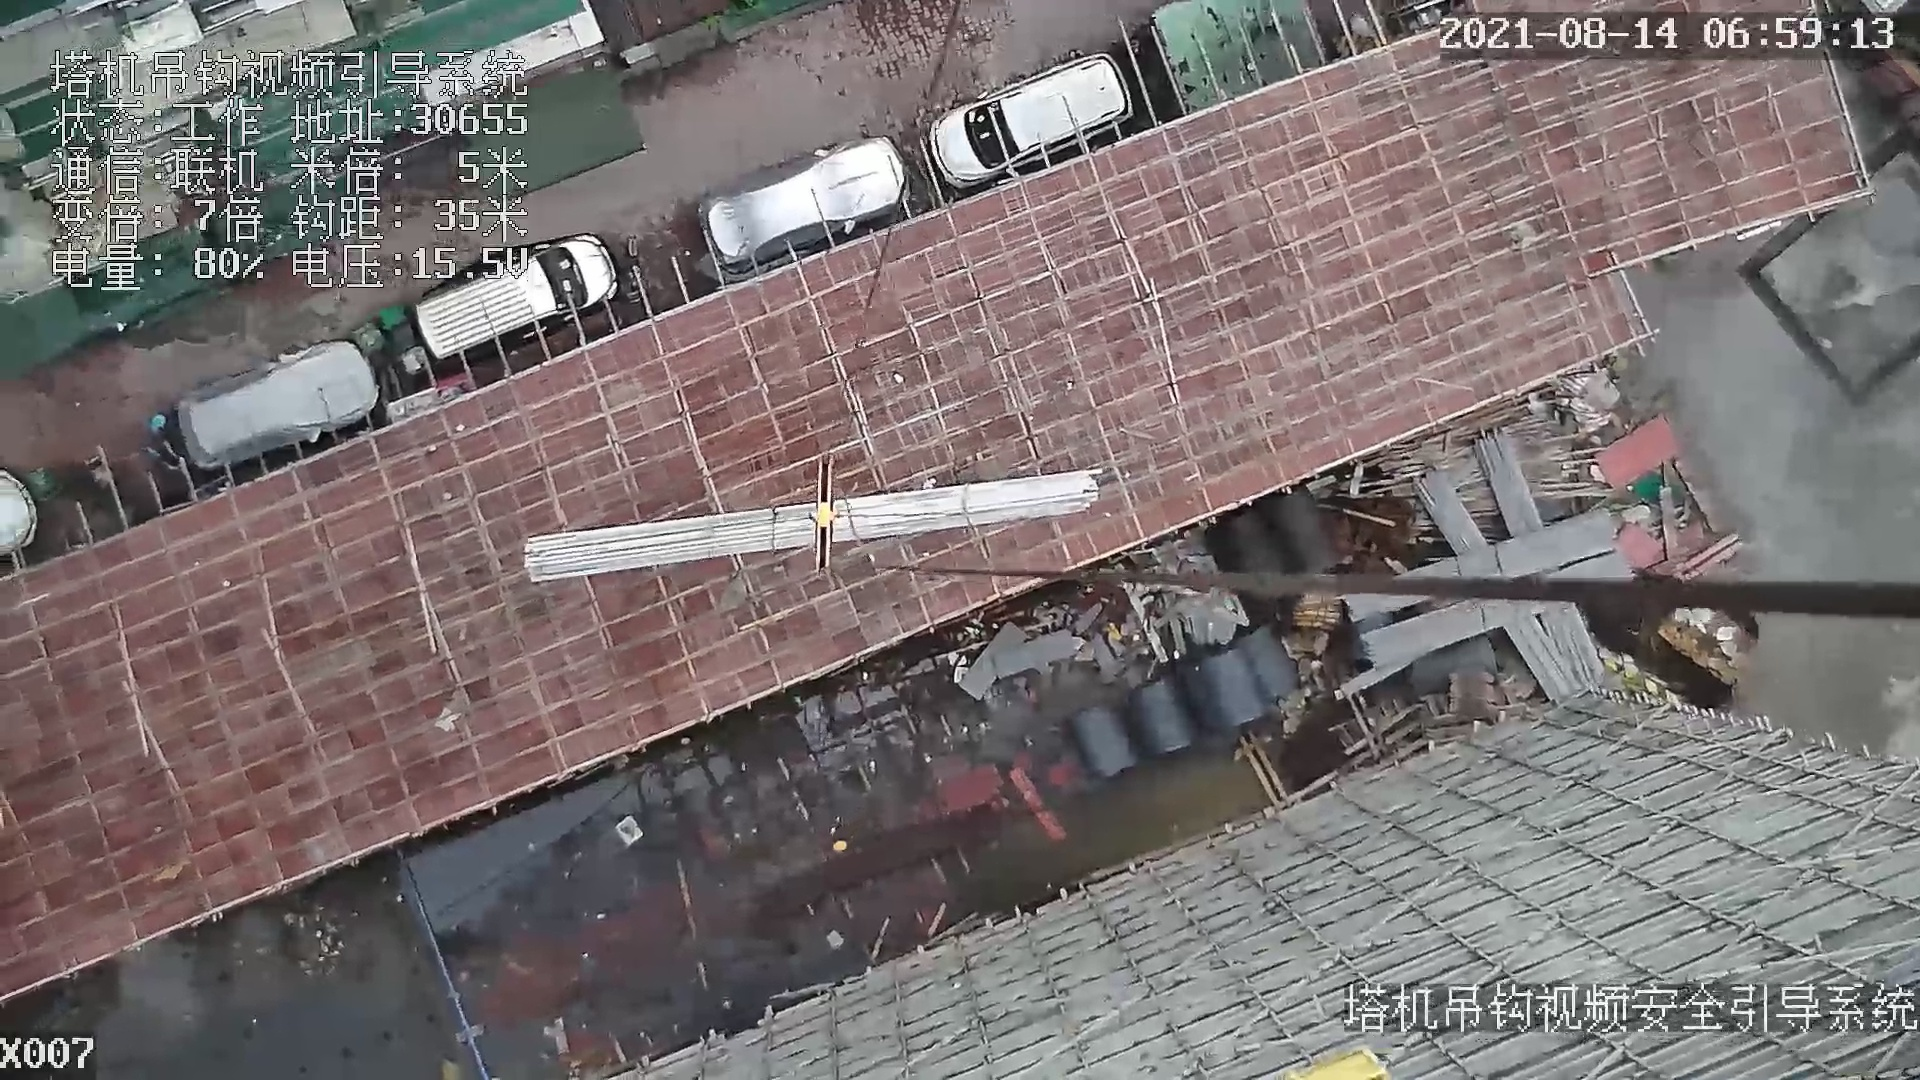hook: (803, 450, 847, 582)
rebar: (520, 468, 1100, 580), (1411, 469, 1575, 698), (1364, 549, 1630, 675), (1480, 433, 1605, 684), (1346, 508, 1619, 621)
wood: (1290, 604, 1340, 630)
